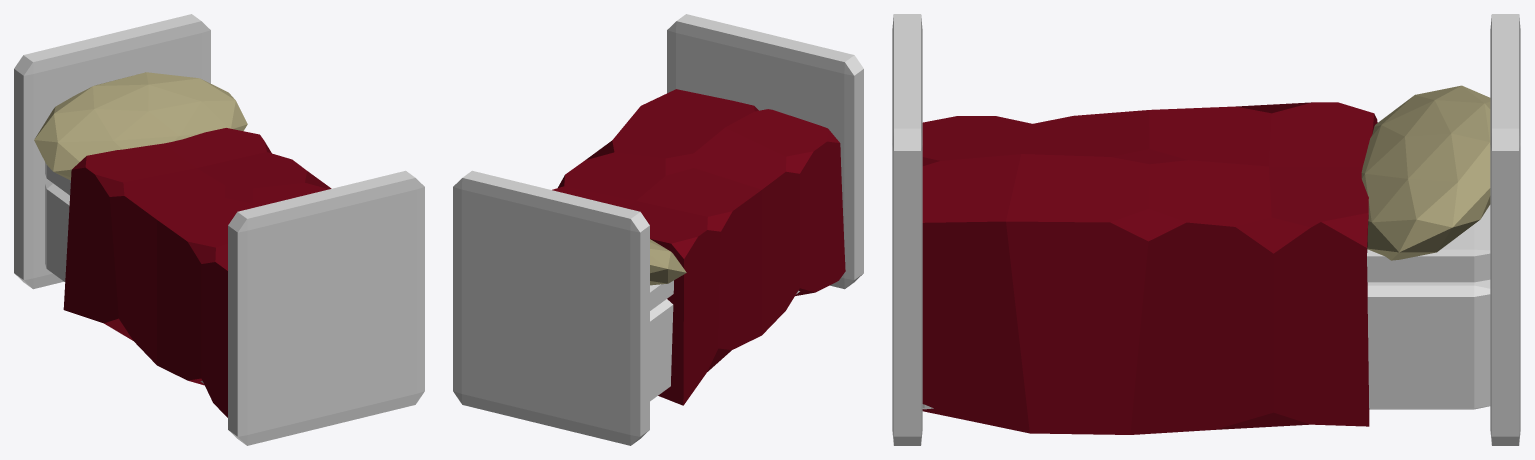
The model's file is Bedspring.fbx.
The picture shows the model from 3 angles, left to right: view 1: azimuth 30°, elevation 25°; view 2: azimuth 150°, elevation 25°; view 3: azimuth 270°, elevation 25°; orthographic projection. The views are drawn at different scales.
Parts seen in each view (by area): view 1: Cube.001, Cube.003, Cube.005, Icosphere, Cube.004; view 2: Cube.003, Cube.005, Cube.001, Cube.004, Icosphere, Cube; view 3: Cube.003, Icosphere, Cube.004, Cube.001, Cube.005, Cube.
Boxes of the visible parts, x1,y1,x2,y2 form: Cube.001: (228,170,424,445); Cube.003: (63,128,331,417); Cube.005: (14,14,210,289); Icosphere: (34,72,247,180); Cube.004: (45,180,203,383); Cube.003: (552,89,845,405); Cube.005: (453,170,649,445); Cube.001: (667,14,863,289); Cube.004: (650,290,799,401); Icosphere: (650,239,686,285); Cube: (650,280,673,310); Cube.003: (922,102,1377,434); Icosphere: (1361,85,1490,260); Cube.004: (922,279,1490,409); Cube.001: (892,14,922,445); Cube.005: (1490,14,1520,445); Cube: (1367,205,1490,282).
Size of the model in its own units: 290 by 323 by 580.
